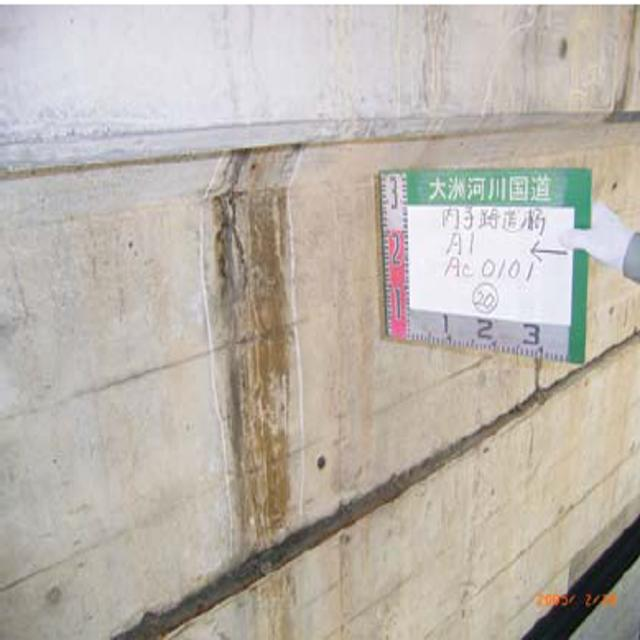leakage: (203, 147, 297, 559)
